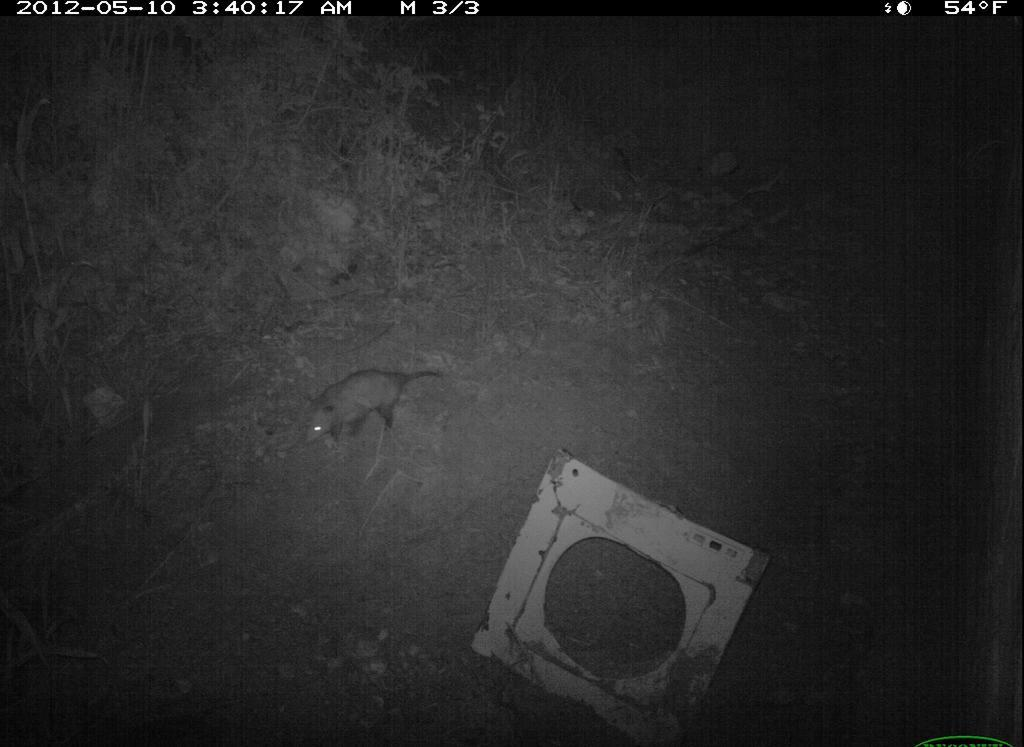opossum: (300, 365, 446, 452)
